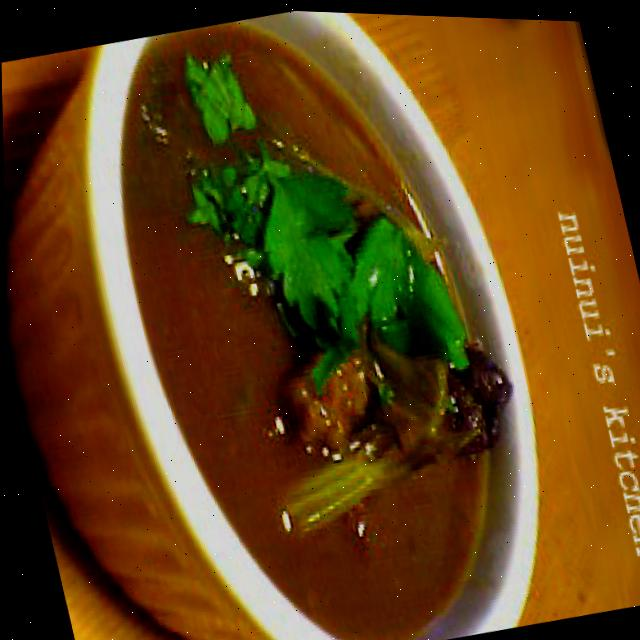汤锅炖物: (0, 0, 596, 640)
